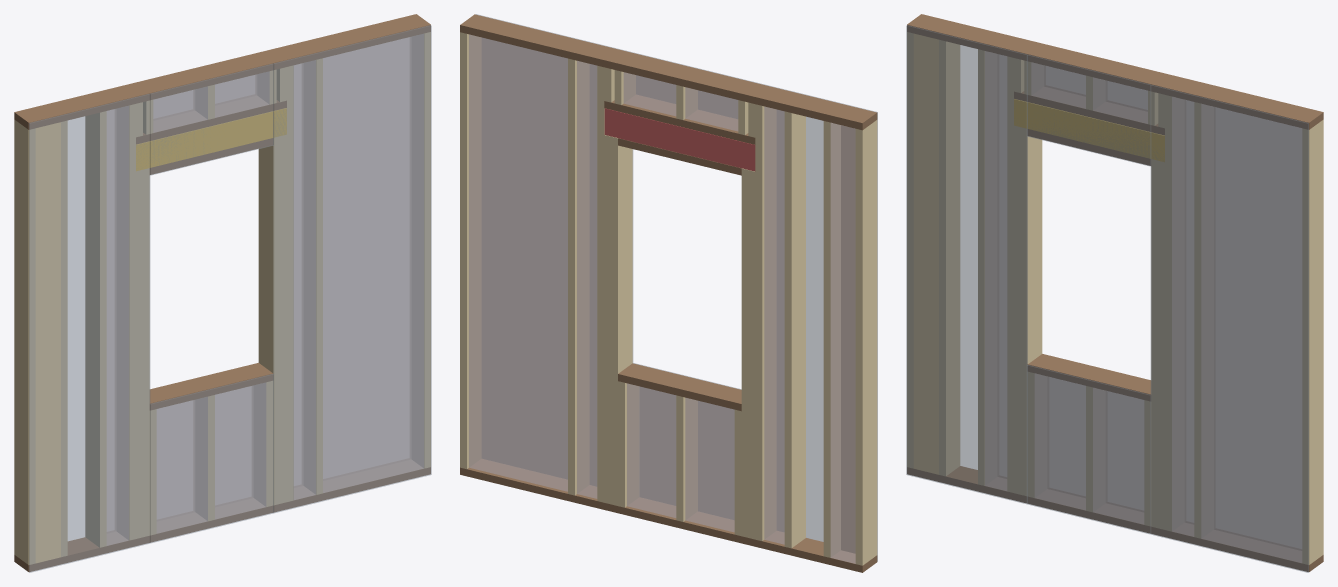
3 renders of one model, left to right at view 1: azimuth 30°, elevation 25°; view 2: azimuth 150°, elevation 25°; view 3: azimuth 330°, elevation 25°, orthographic.
Parts seen in each view (by area): view 1: EX12 FF; view 2: EX12 FF; view 3: EX12 FF.
Part boxes in pixels (box(x1,y1,x2,y2)): EX12 FF: box(14, 14, 431, 572); EX12 FF: box(460, 14, 877, 572); EX12 FF: box(906, 14, 1323, 572).
Bounding box in the file's own units: 2.23 × 2.38 × 0.149.
